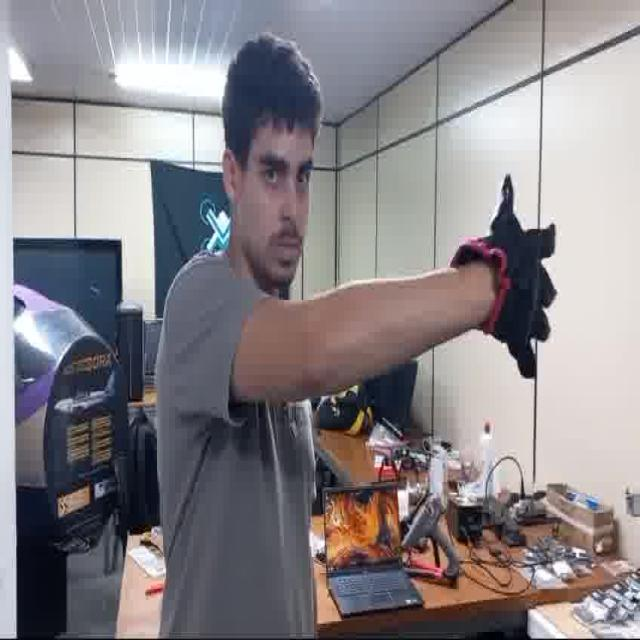Gloves: (441, 167, 567, 387)
